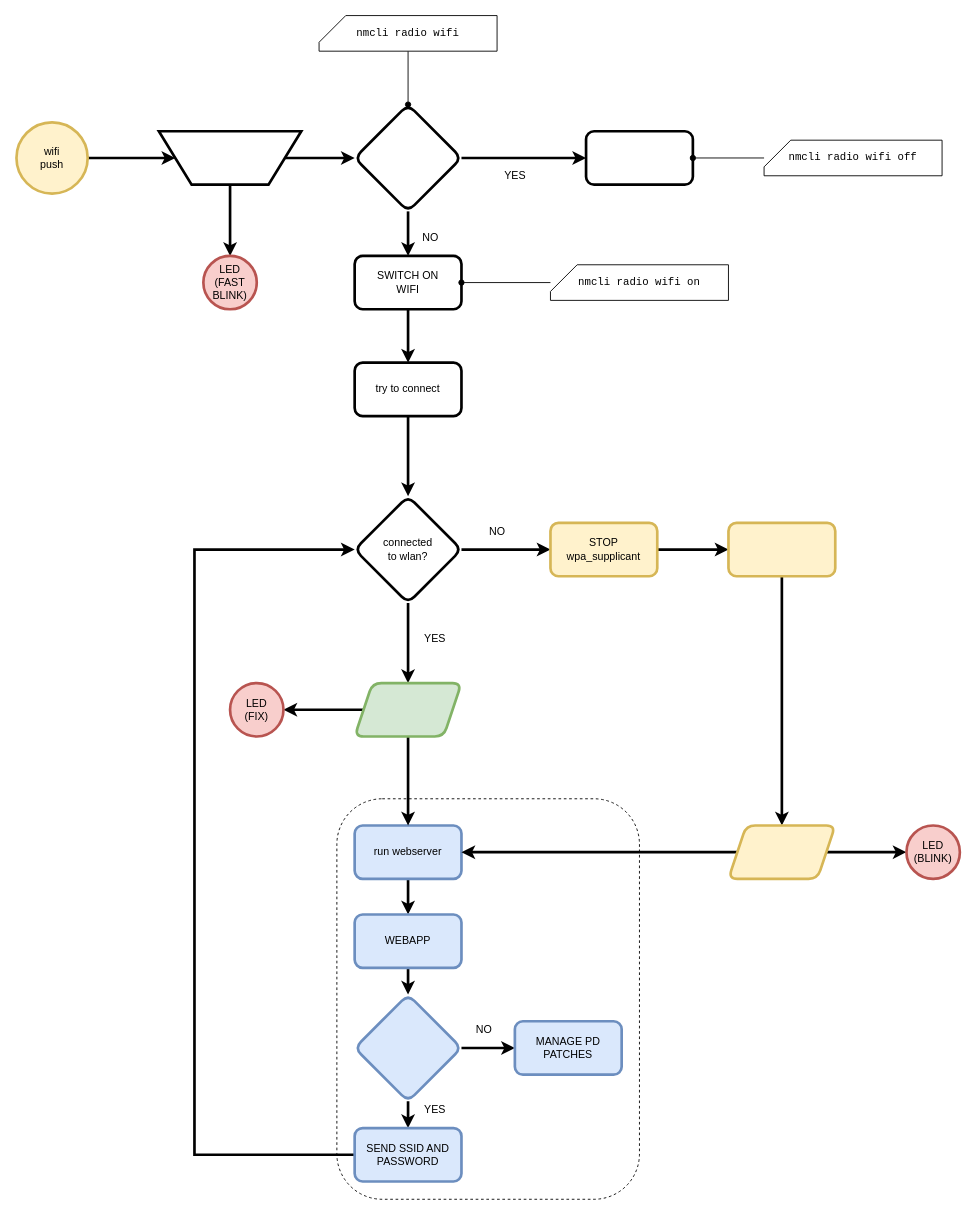
This 976x1215 diagram has some shape labels left out. Here are the shapes that lost their labels. From the top down, the box of each, then its label:
(157, 129, 302, 186): PRESS AND HOLD FOR 3 SECS
(353, 103, 462, 212): WIFI IS ACTIVE?
(584, 129, 694, 186): SWITCH OFF WIFI
(727, 521, 836, 577): RUN HOTSPOT
(353, 681, 462, 737): 192.168.1.X (WLAN)
(727, 824, 836, 880): 192.168.72.1 (AP)
(353, 993, 462, 1102): AP?
